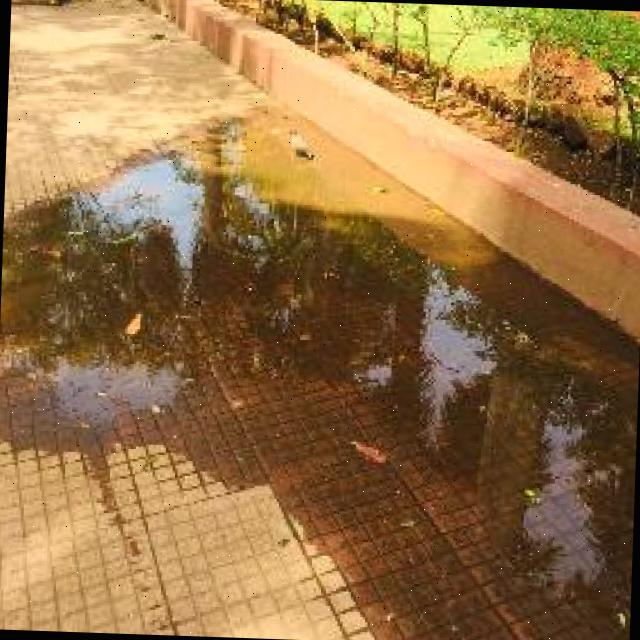stagnation: (0, 92, 634, 637)
